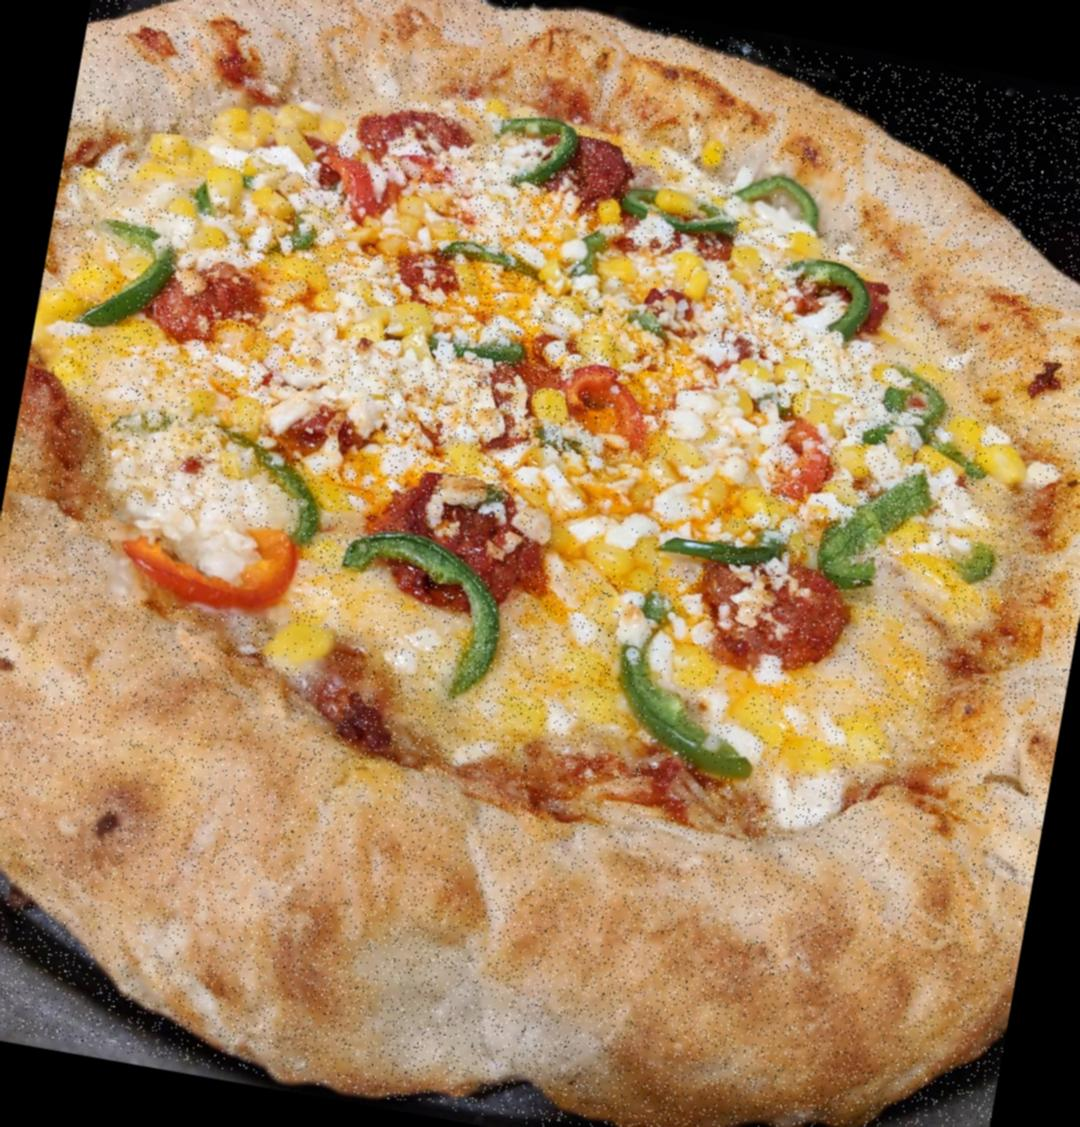Corn: (504, 445, 667, 582), (662, 346, 787, 517), (536, 228, 720, 322), (136, 130, 305, 229), (286, 286, 445, 371), (344, 176, 457, 265), (213, 90, 346, 163), (181, 386, 265, 432), (272, 620, 338, 673), (30, 287, 71, 363), (778, 736, 845, 780), (796, 388, 852, 437), (985, 446, 1043, 492), (943, 410, 986, 462), (670, 640, 716, 689), (828, 444, 882, 483), (726, 242, 763, 291), (743, 695, 786, 737), (220, 326, 266, 360), (913, 447, 958, 480), (189, 219, 229, 257), (782, 233, 824, 269), (850, 712, 887, 752), (715, 667, 747, 712), (444, 443, 485, 477), (784, 356, 820, 384), (597, 193, 633, 220), (457, 263, 481, 294)
Pepperoni: (349, 453, 545, 620), (689, 541, 857, 679), (143, 246, 282, 358), (257, 371, 391, 477), (782, 256, 901, 342), (352, 99, 472, 177), (539, 125, 633, 213), (389, 239, 479, 320), (621, 285, 709, 350)
Peppers: (598, 581, 777, 781), (323, 524, 517, 707), (106, 399, 336, 535), (105, 502, 304, 624), (813, 459, 939, 600), (82, 216, 188, 345), (555, 358, 663, 459), (773, 251, 884, 349), (864, 357, 954, 462), (729, 157, 840, 233), (763, 406, 839, 510), (662, 517, 786, 582), (492, 106, 578, 193), (623, 182, 736, 246)
Pizza: (0, 0, 1080, 1127)
